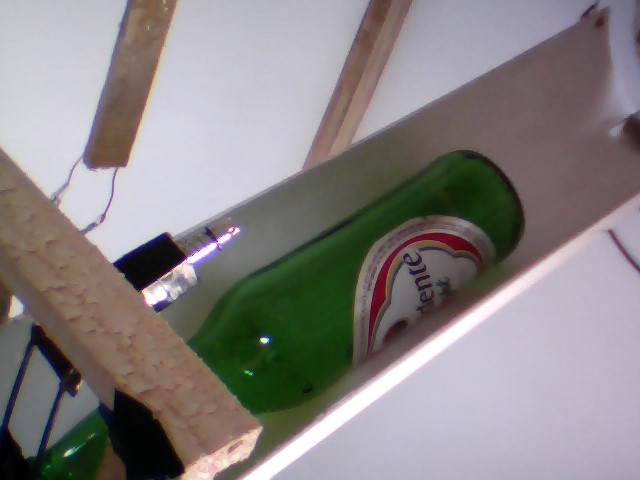vidrio: (181, 144, 537, 422)
